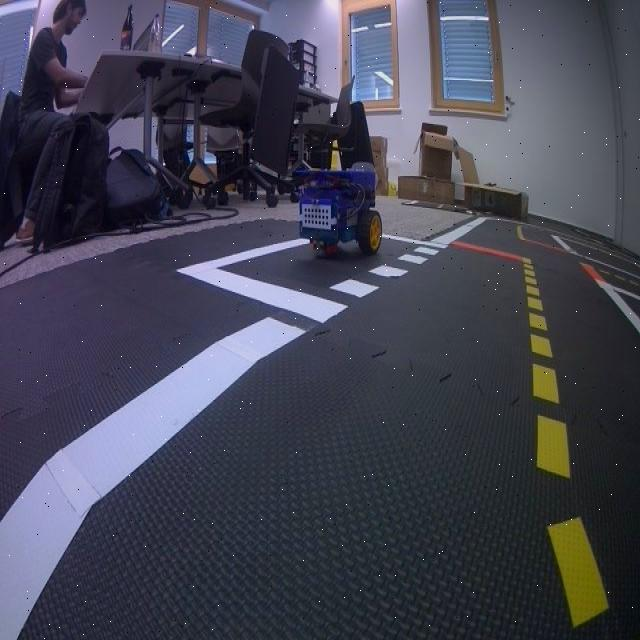bot: (298, 165, 383, 258)
park: (174, 225, 448, 324)
